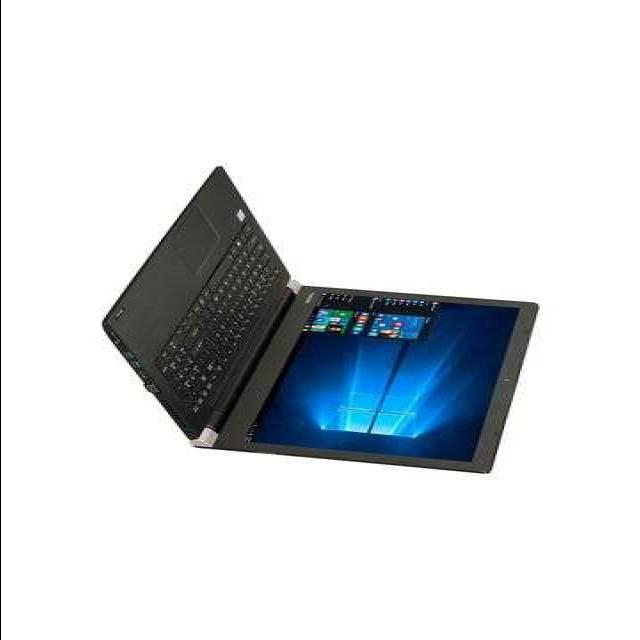laptop: (100, 180, 546, 478)
